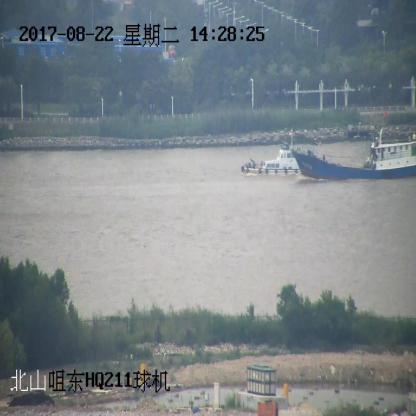Fishing Boat: (291, 108, 415, 180), (242, 144, 304, 176)
